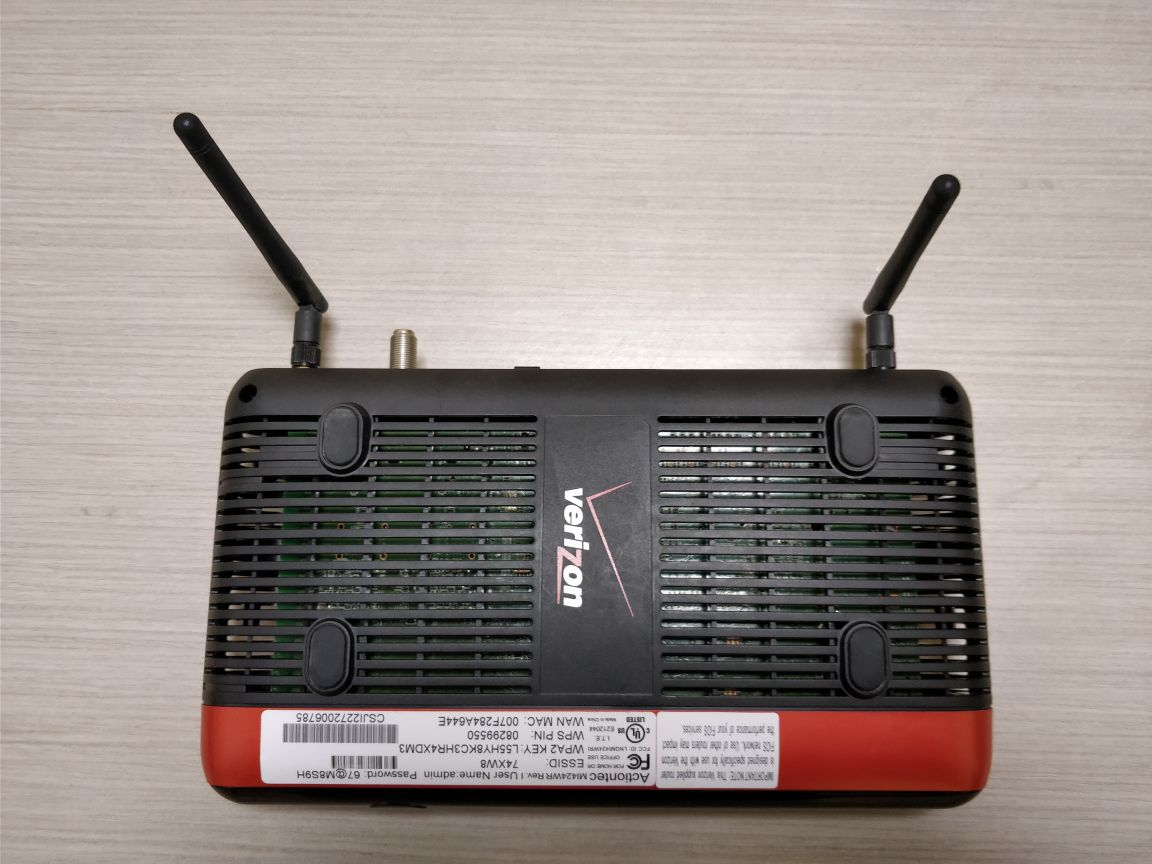Verizon Router: (118, 79, 1032, 833)
